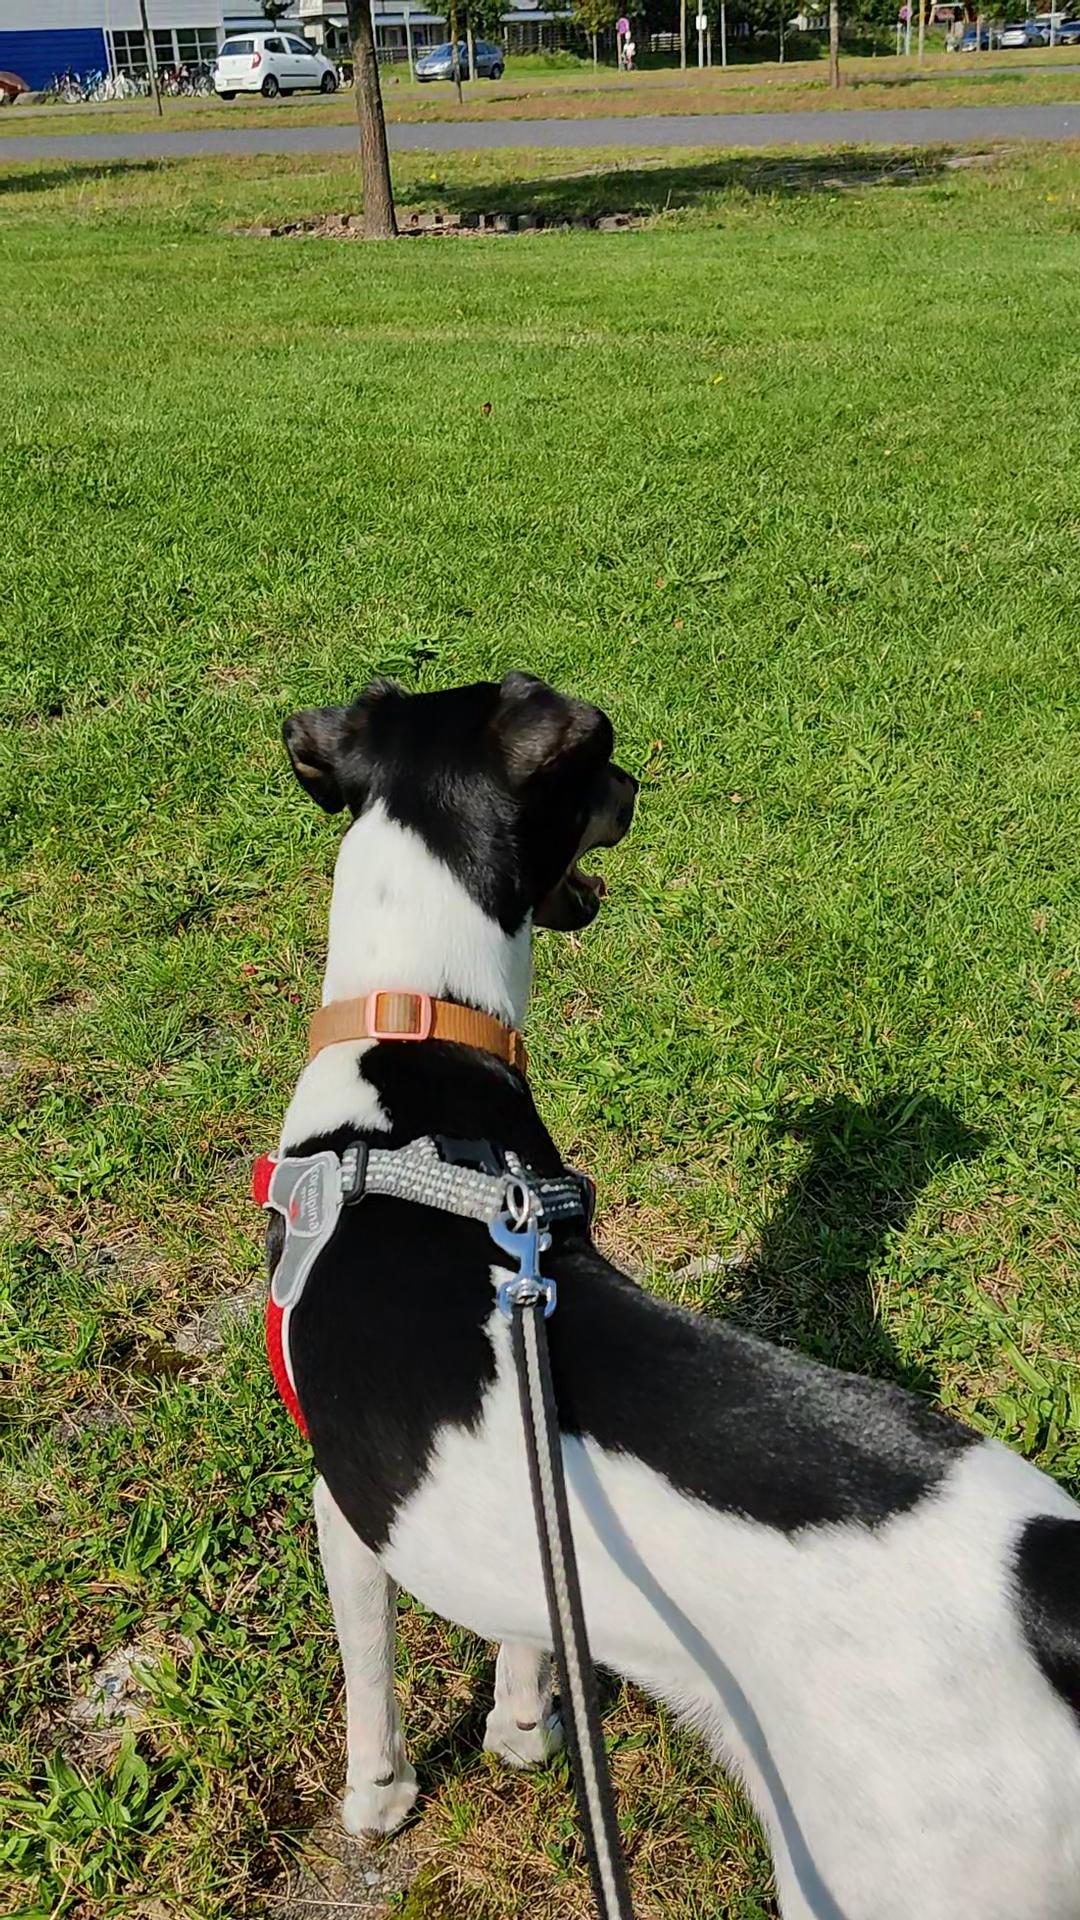Dog: (208, 636, 1079, 1919)
